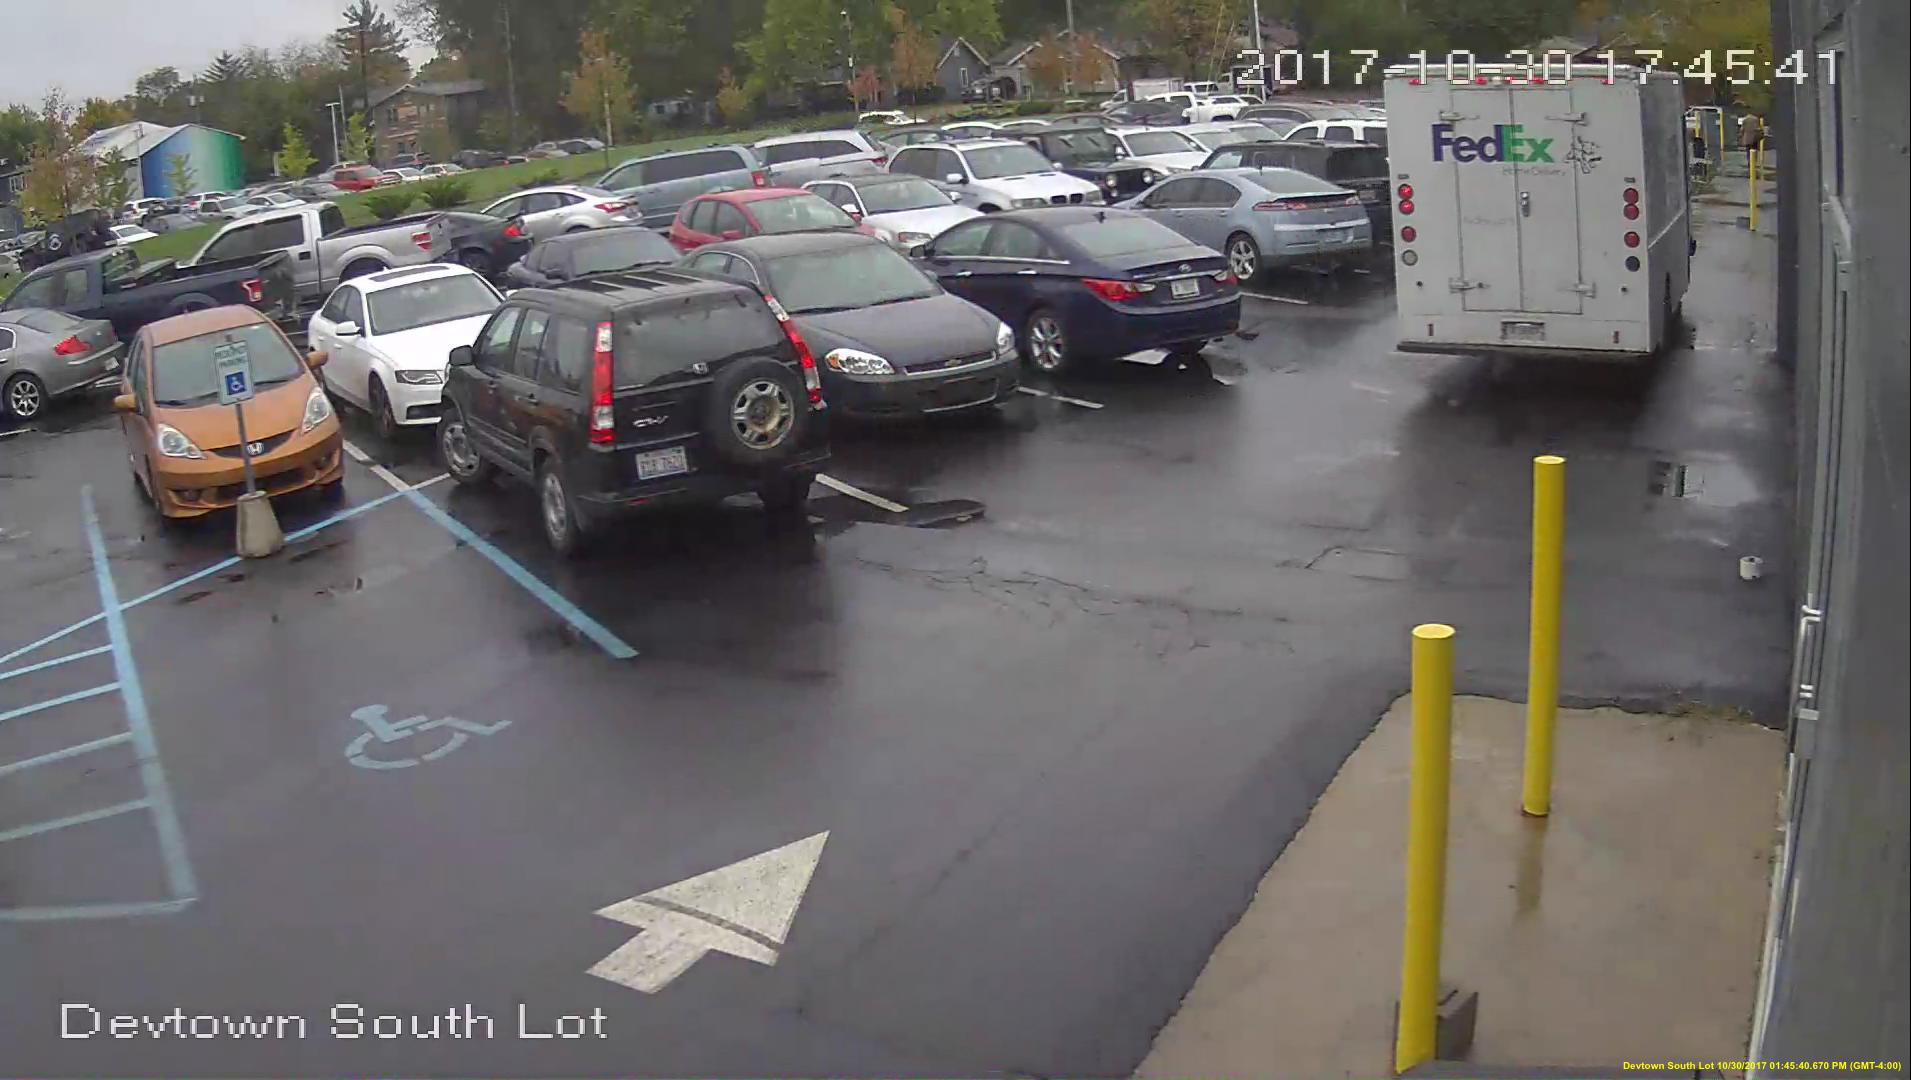fedex_truck: (1398, 71, 1690, 365)
